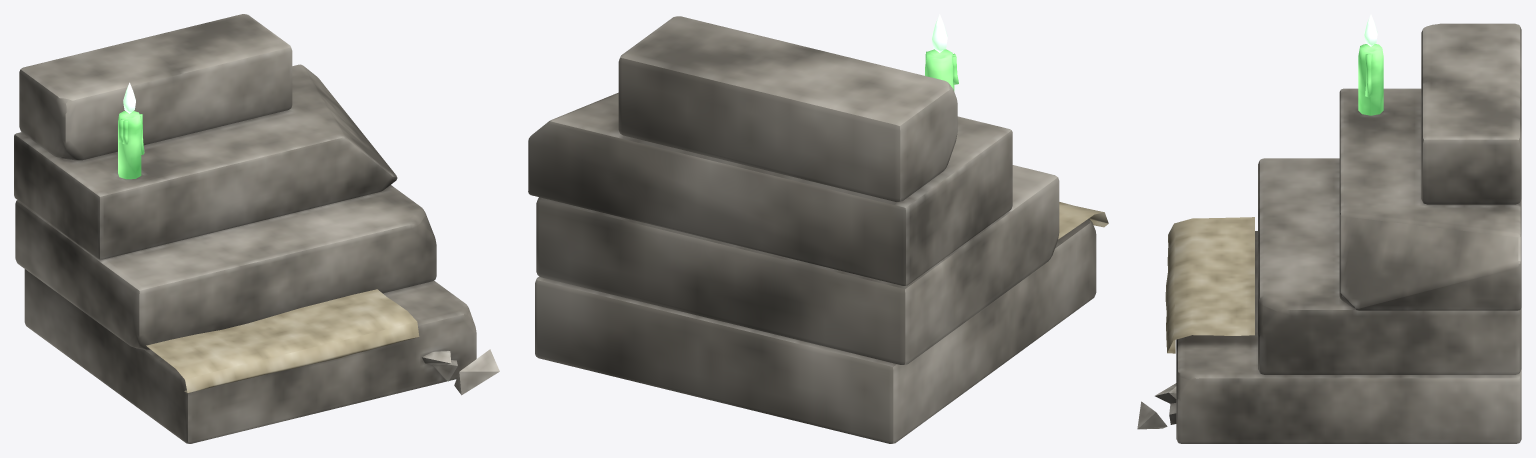
Rendered from Ossuary_Prop_B.fbx.
The picture shows the model from 3 angles, left to right: view 1: azimuth 30°, elevation 25°; view 2: azimuth 150°, elevation 25°; view 3: azimuth 270°, elevation 25°; orthographic projection. The views are drawn at different scales.
Parts seen in each view (by area): view 1: Ossuary_Prop_B; view 2: Ossuary_Prop_B; view 3: Ossuary_Prop_B.
Part boxes in pixels (box(x1,y1,x2,y2)): Ossuary_Prop_B: box(14, 14, 499, 443); Ossuary_Prop_B: box(528, 14, 1108, 443); Ossuary_Prop_B: box(1137, 14, 1521, 443).
Bounding box in the file's own units: 1.18 × 1.06 × 1.22.
